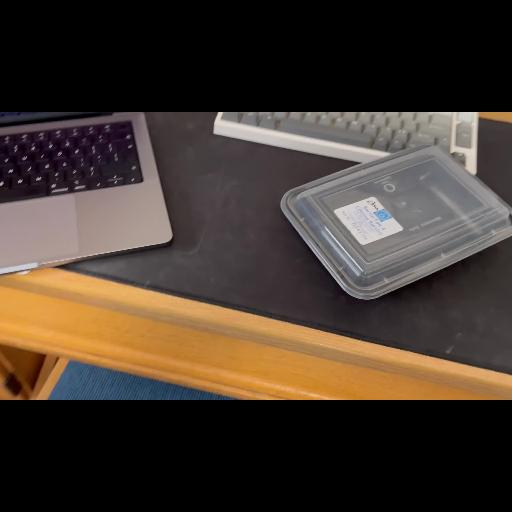rigid_plastic_container: (278, 142, 512, 302)
